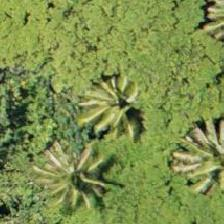coconut_tree: (70, 63, 160, 153), (26, 126, 116, 216), (174, 109, 223, 199)
